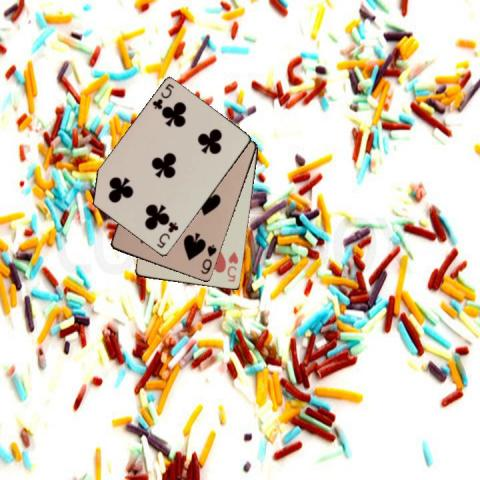5c: (153, 219, 180, 250), (149, 81, 176, 111)
5h: (225, 249, 240, 283)
6s: (198, 241, 218, 276)
